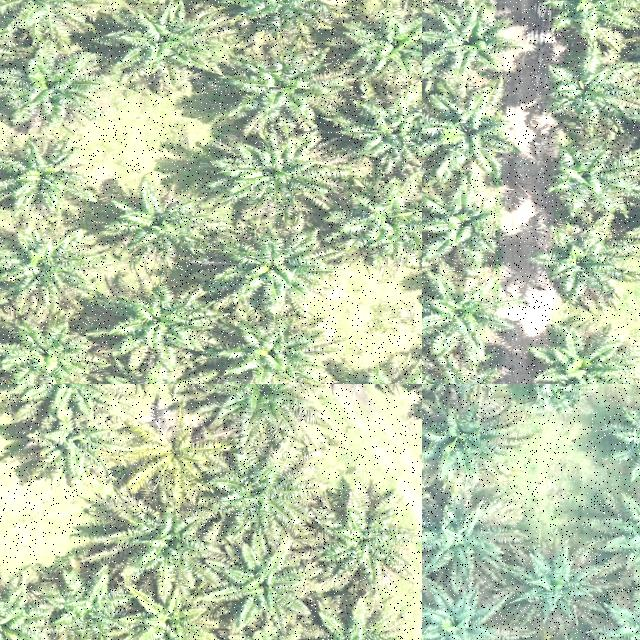Ganoderma: (138, 410, 224, 488)
